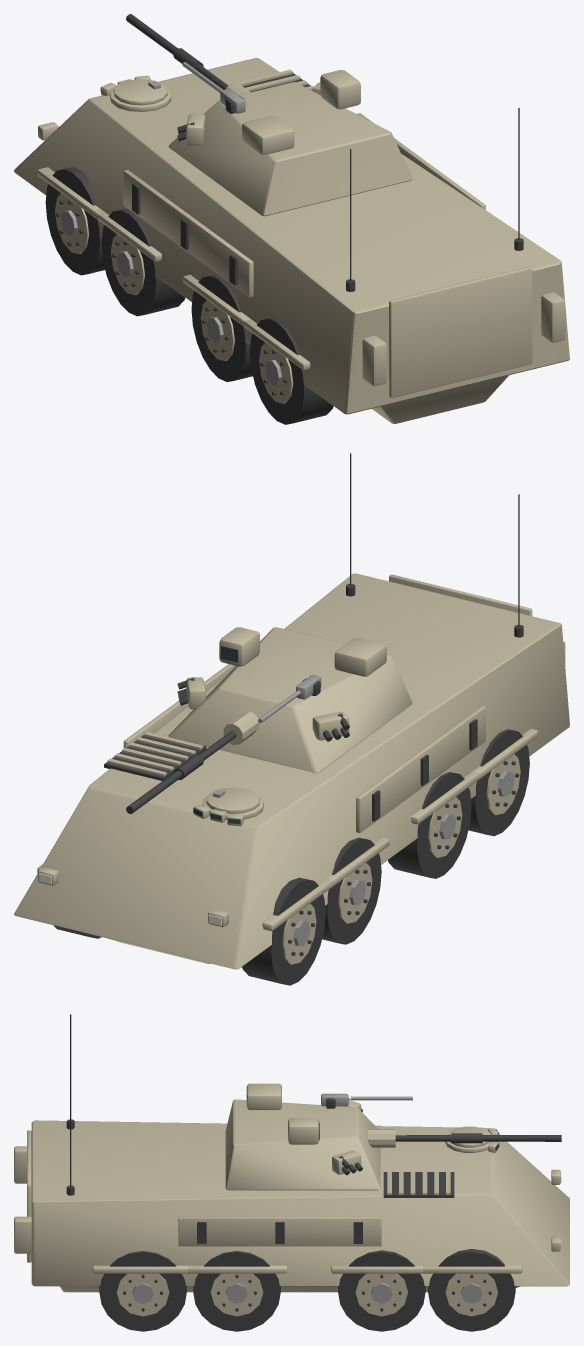
Rendered from usa_ifv_drag.glb.
3 renders of one model, top to bottom at view 1: azimuth 30°, elevation 25°; view 2: azimuth 150°, elevation 25°; view 3: azimuth 270°, elevation 25°, orthographic. The views are drawn at different scales.
Parts seen in each view (by area): view 1: body, turret, wheel_2, wheel_6, wheel_0, wheel_4, barrel; view 2: body, turret, wheel_0, wheel_4, wheel_6, wheel_2, barrel; view 3: body, turret, wheel_1, wheel_3, wheel_7, wheel_5, barrel.
Boxes of the visible parts, x1,y1,x2,y2 form: body: (14, 58, 569, 423); turret: (168, 62, 412, 216); wheel_2: (101, 209, 185, 316); wheel_6: (250, 318, 333, 424); wheel_0: (45, 167, 105, 275); wheel_4: (191, 275, 252, 381); barrel: (126, 14, 250, 95); body: (14, 453, 569, 969); turret: (168, 627, 412, 773); wheel_0: (242, 877, 325, 985); wheel_4: (388, 772, 471, 878); wheel_6: (468, 729, 529, 836); wheel_2: (322, 837, 381, 944); barrel: (126, 711, 259, 813); body: (14, 1014, 569, 1292); turret: (225, 1083, 412, 1190); wheel_1: (428, 1249, 515, 1331); wheel_3: (338, 1250, 425, 1331); wheel_7: (99, 1251, 186, 1331); wheel_5: (193, 1251, 280, 1331); barrel: (368, 1129, 561, 1147).
Bounding box in the file's own units: 2.88 × 3.38 × 7.1.
